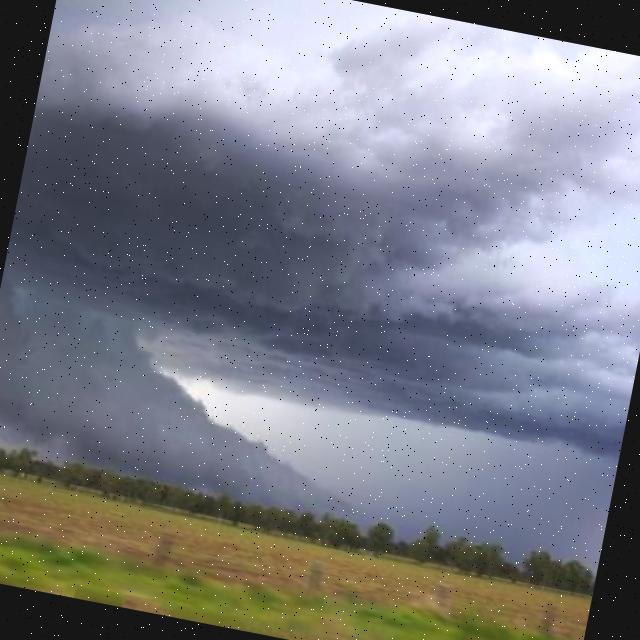Cb: (1, 1, 640, 549)
